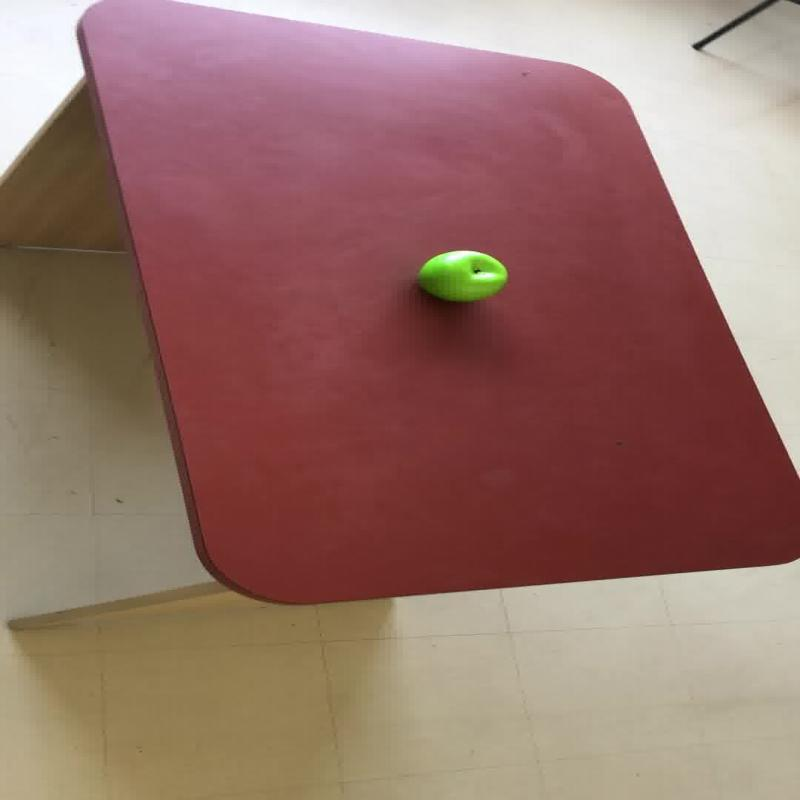apple: (416, 249, 508, 302)
